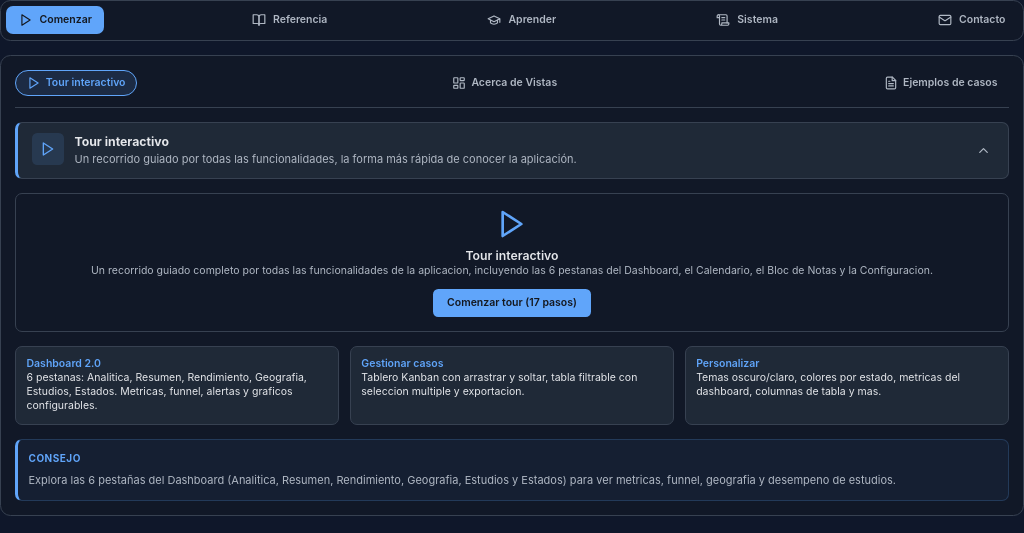
Scenario: HelpPanel (rediseño grupos) › muestra las sub-pills de Sistema con Documentación
Click the button "Sistema".
click(747, 20)  # box left=704, top=6, right=790, bottom=34
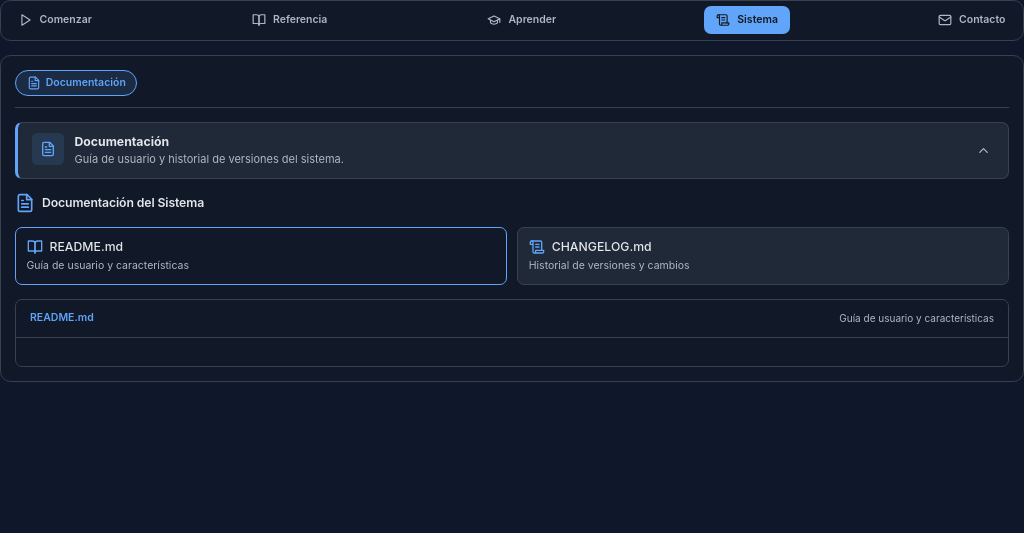
Check: the button "Documentación" is shown, box left=15, top=70, right=137, bottom=96
